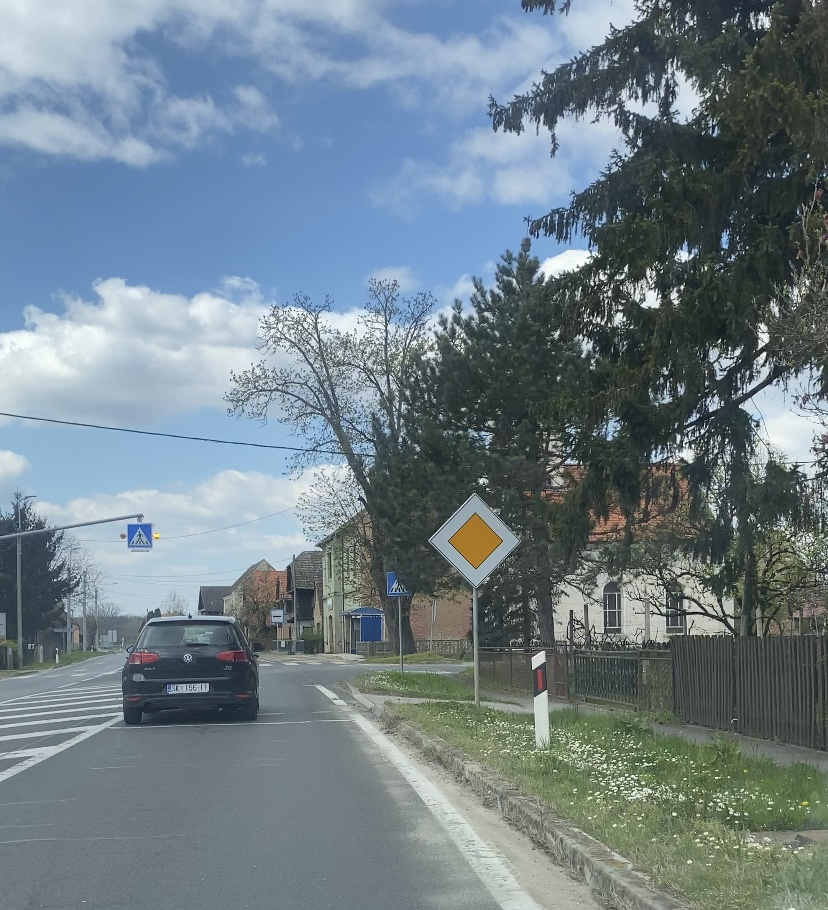Cesta s prednošću prolaska: (427, 492, 521, 590)
Pješački prijelaz: (127, 524, 152, 547)
